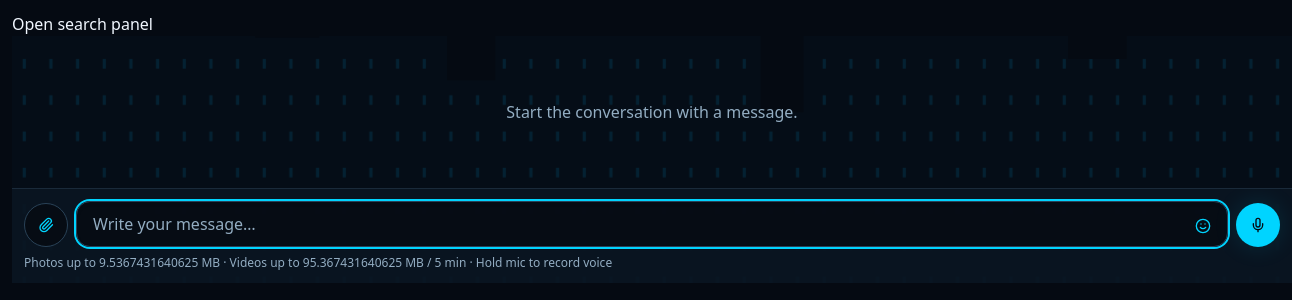
Test: chat attachments › switches between microphone and send as text is entered and cleared
The width and height of the screenshot is (1292, 300).
Expected: the button named "Hold to record voice message" is shown, [1236,203,1280,247]
Type "hello" into the text box labelled "message".
click(630, 224); type("hello")  # box [77,202,1183,246]
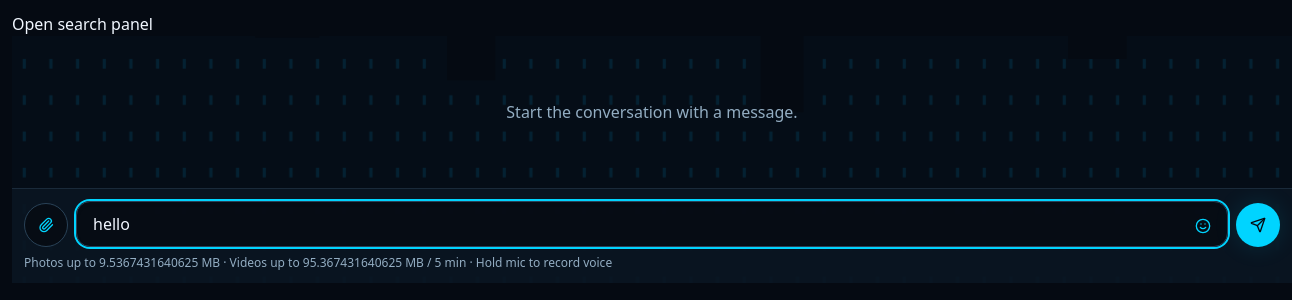
Expected: the button named "Send message" is shown, [1236,203,1280,247]
Clear the text box named "message" at x=630, y=224, box [77,202,1183,246]
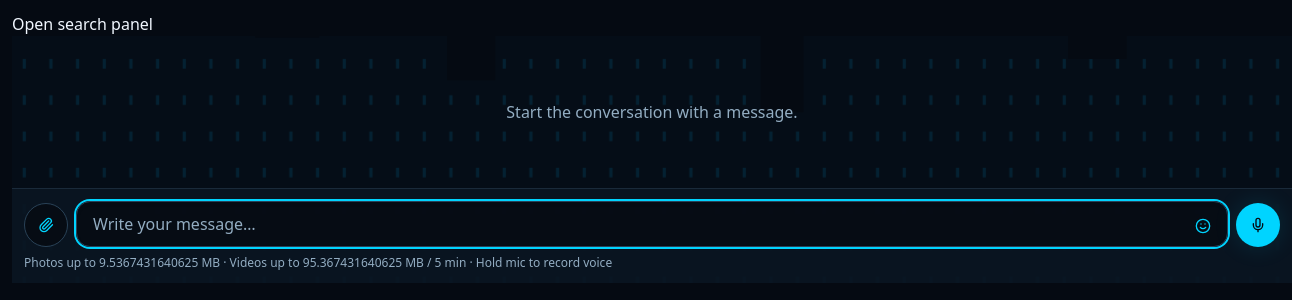
Expected: the button named "Hold to record voice message" is shown, [1236,203,1280,247]
